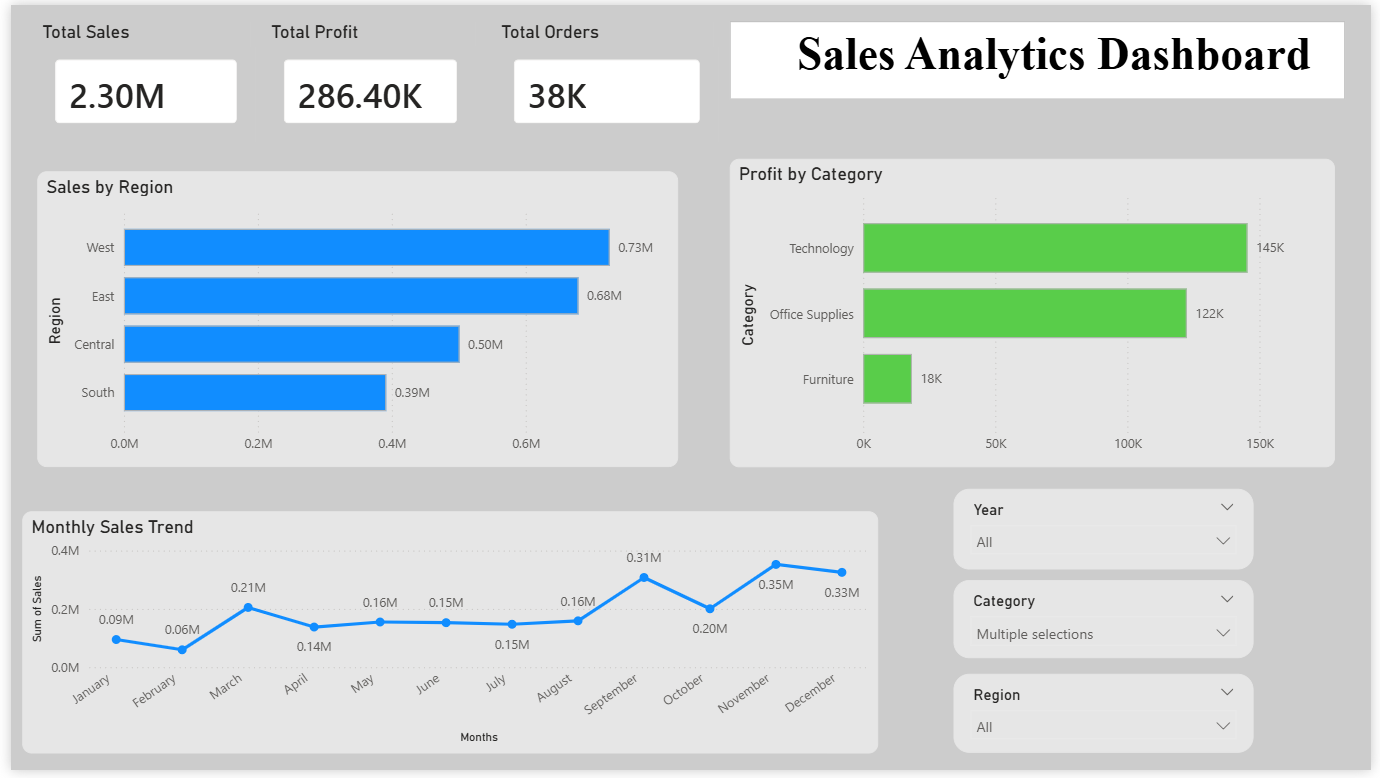

The page's visual inventory and layout, read from the dashboard file:
{"tool":"powerbi","page":{"name":"Page 1","canvas":[1280,720],"ordinal":0},"visuals":[{"type":"cardVisual","title":"Total Sales","fields":{"Data":["Sum(Superstore sales dataset.Sales)"]},"box":[24.7,15.1,205.8,113.9],"z":0},{"type":"cardVisual","title":"Total Profit","fields":{"Data":["Sum(Superstore sales dataset.Profit)"]},"box":[240.1,15.1,197.6,113.9],"z":1000},{"type":"cardVisual","title":"Total Orders","fields":{"Data":["Sum(Superstore sales dataset.Quantity)"]},"box":[456.9,15.1,209.9,113.9],"z":2000},{"type":"clusteredBarChart","title":" Sales by Region","fields":{"Category":["Superstore sales dataset.Region"],"Y":["Sum(Superstore sales dataset.Sales)"]},"box":[24.1,156.8,603.2,278.7],"z":3000},{"type":"lineChart","title":" Monthly Sales Trend","fields":{"Category":["Superstore sales dataset.Order Date.Variation.Date Hierarchy.Month"],"Y":["Sum(Superstore sales dataset.Sales)"]},"box":[11,476.2,805.5,227.8],"z":4000},{"type":"barChart","title":" Profit by Category","fields":{"Category":["Superstore sales dataset.Category"],"Y":["Sum(Superstore sales dataset.Profit)"]},"box":[676.8,144.8,569.4,290.8],"z":5000},{"type":"slicer","fields":{"Values":["Superstore sales dataset.Region"]},"box":[886.7,629.8,282.3,74.8],"z":6000},{"type":"slicer","fields":{"Values":["Superstore sales dataset.Year"]},"box":[886.7,454.8,282.3,76],"z":7000},{"type":"slicer","fields":{"Values":["Superstore sales dataset.Category"]},"box":[886.7,541.7,282.3,73.6],"z":8000},{"type":"textbox","box":[676.8,15.7,579.1,73.6],"z":8001}]}

Visuals, with their boxes in screenshot pixels (x1, y1, x2, y2), scaled from the page's 1280x720 canvas onto the 1380x778 screenshot:
"Total Sales" cardVisual: {"left": 27, "top": 16, "right": 249, "bottom": 139}
"Total Profit" cardVisual: {"left": 259, "top": 16, "right": 472, "bottom": 139}
"Total Orders" cardVisual: {"left": 493, "top": 16, "right": 719, "bottom": 139}
" Sales by Region" clusteredBarChart: {"left": 26, "top": 169, "right": 676, "bottom": 471}
" Monthly Sales Trend" lineChart: {"left": 12, "top": 515, "right": 880, "bottom": 761}
" Profit by Category" barChart: {"left": 730, "top": 156, "right": 1344, "bottom": 471}
slicer - Superstore sales dataset.Region: {"left": 956, "top": 681, "right": 1260, "bottom": 761}
slicer - Superstore sales dataset.Year: {"left": 956, "top": 491, "right": 1260, "bottom": 574}
slicer - Superstore sales dataset.Category: {"left": 956, "top": 585, "right": 1260, "bottom": 665}
textbox: {"left": 730, "top": 17, "right": 1354, "bottom": 96}
